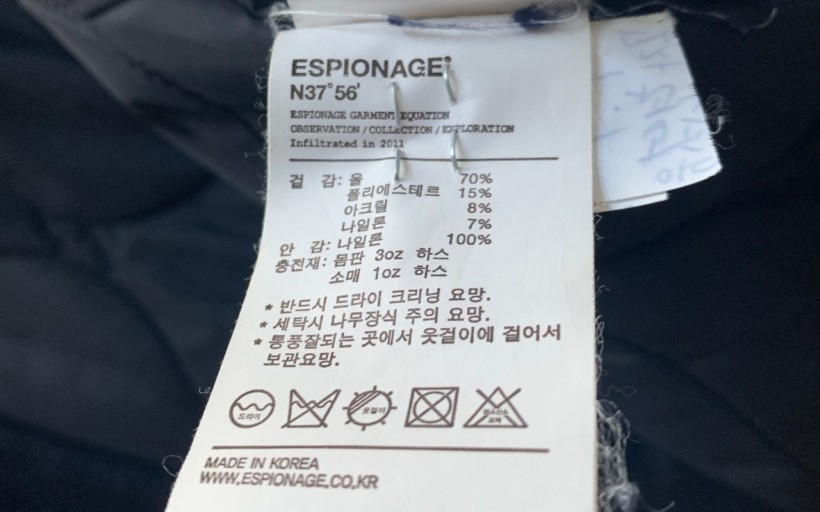KR_dry_clean: (224, 384, 276, 431)
KR_hang_dry_in_shade: (343, 383, 397, 432)
KR_no_bleach: (464, 383, 530, 437)
KR_no_tumble_dry: (402, 381, 463, 432)
KR_no_wash: (280, 384, 341, 433)
